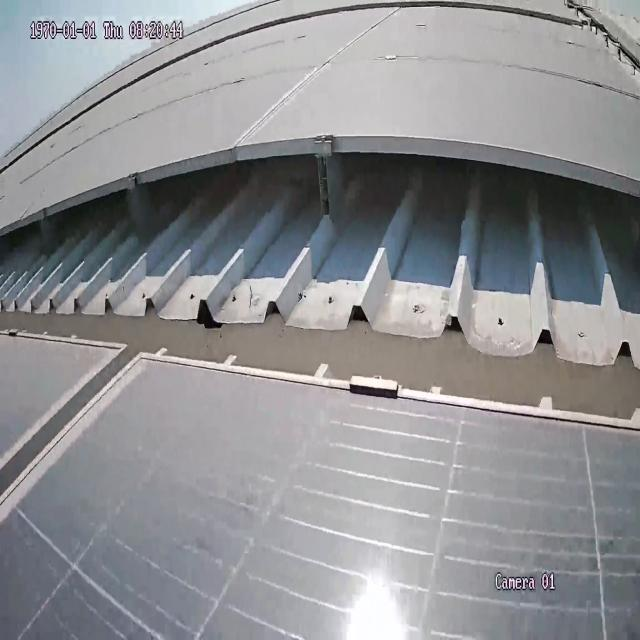interior panel: (0, 365, 135, 519), (238, 12, 383, 134)
outher panel: (0, 143, 640, 432)
